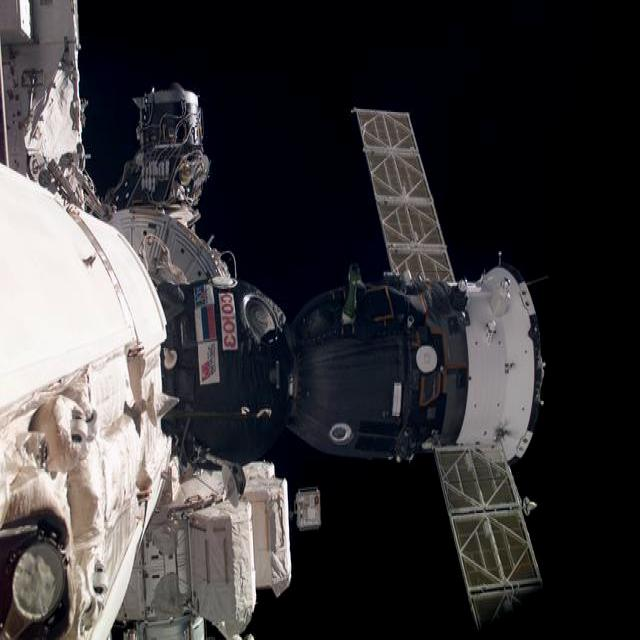medium_debris: (0, 68, 544, 638)
